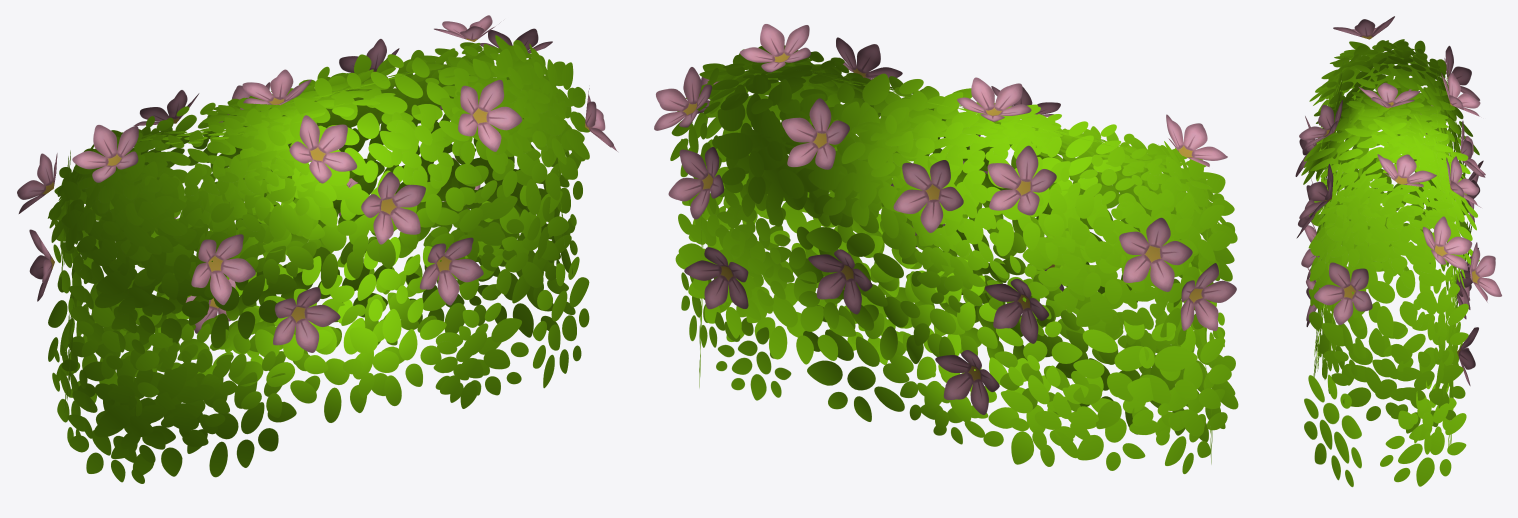
Rendered from Bush_Large_Flowers.glb.
3 views of the same model, side by side, from view 1: azimuth 30°, elevation 25°; view 2: azimuth 150°, elevation 25°; view 3: azimuth 270°, elevation 25° (orthographic). The views are drawn at different scales.
Parts seen in each view (by area): view 1: Bush_Large_Flowers; view 2: Bush_Large_Flowers; view 3: Bush_Large_Flowers.
Boxes of the visible parts, x1,y1,x2,y2 form: Bush_Large_Flowers: (17, 15, 617, 483); Bush_Large_Flowers: (654, 24, 1238, 473); Bush_Large_Flowers: (1295, 16, 1501, 487).
Bounding box in the file's own units: 1.93 × 1.26 × 0.7616.
2 materials, 2 textured.
